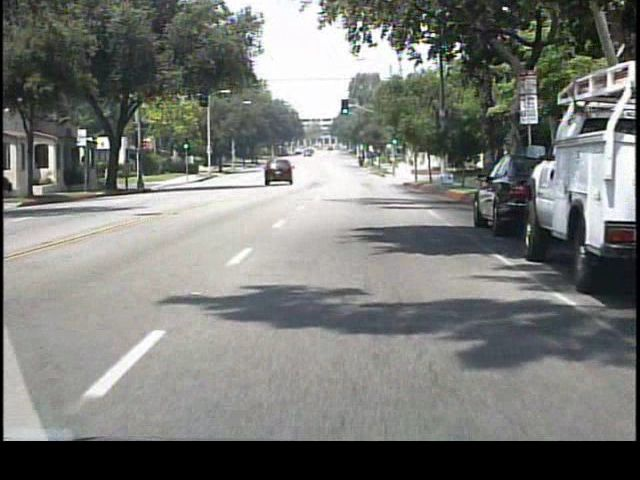person: (106, 166, 113, 194)
